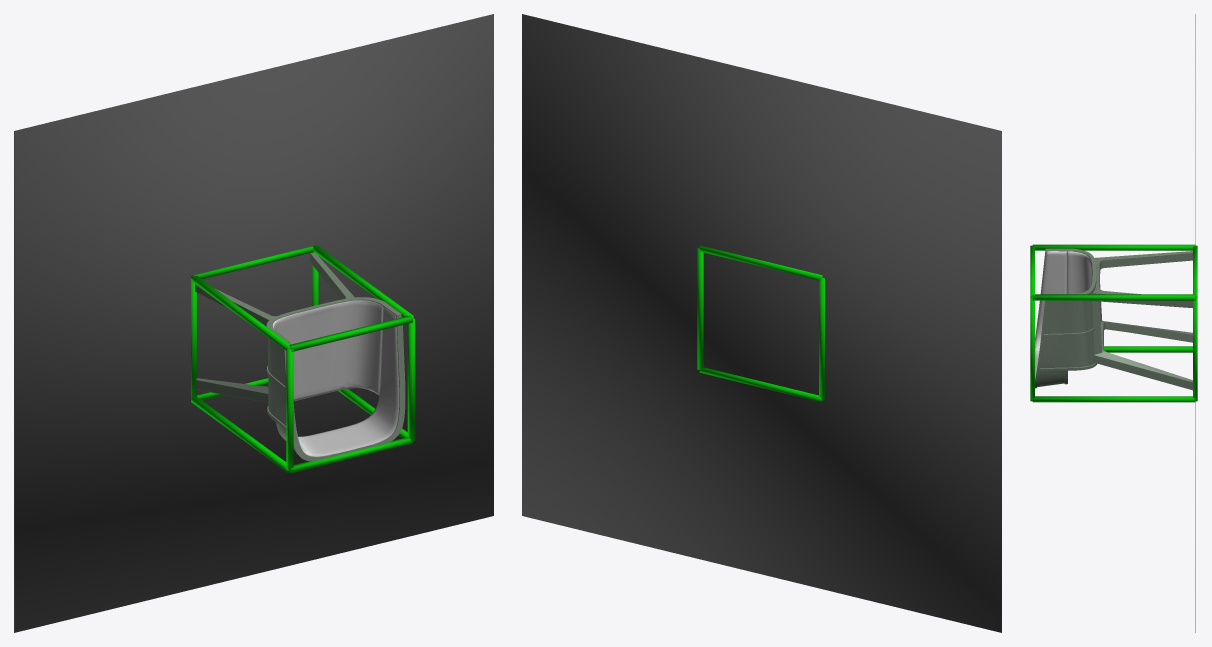
3 renders of one model, left to right at view 1: azimuth 30°, elevation 25°; view 2: azimuth 150°, elevation 25°; view 3: azimuth 270°, elevation 25°, orthographic. The views are drawn at different scales.
Bounding box in the file's own units: 2 × 2 × 0.7194.
